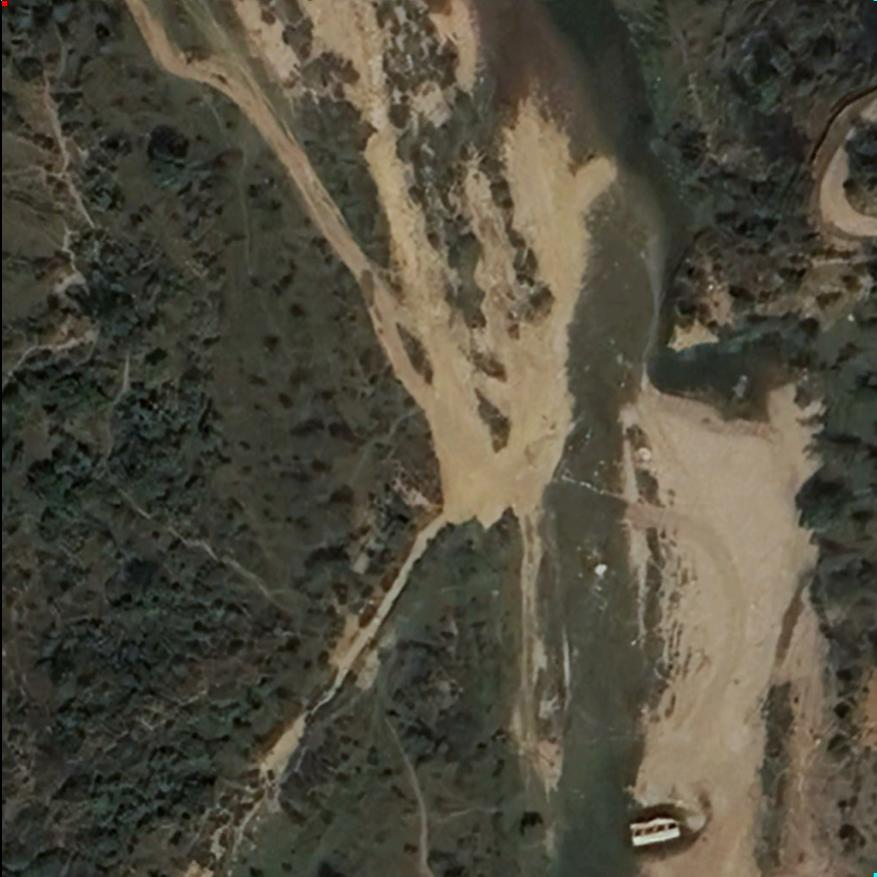Solarpanel: (630, 819, 679, 839)
